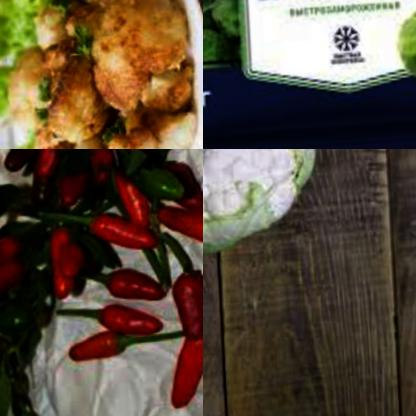brus capusta: (203, 0, 249, 81), (203, 0, 248, 77)
cayliflower: (0, 0, 199, 149), (203, 149, 323, 268)
hot pepper: (154, 322, 203, 415), (35, 232, 91, 302), (104, 168, 157, 240), (78, 219, 160, 265), (52, 151, 112, 210), (92, 265, 170, 309), (156, 156, 203, 221), (167, 265, 203, 349), (149, 198, 203, 250), (58, 327, 127, 366), (0, 215, 29, 304), (89, 309, 159, 344), (26, 149, 64, 186), (0, 149, 54, 170)
